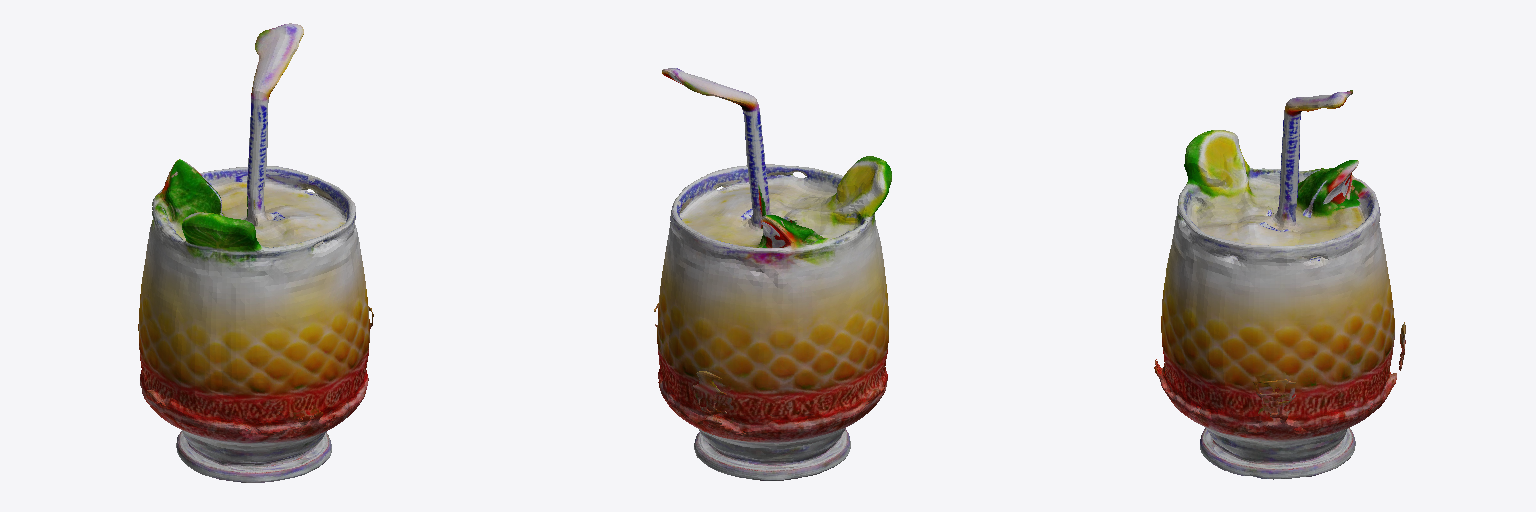
3 renders of one model, left to right at view 1: azimuth 30°, elevation 25°; view 2: azimuth 150°, elevation 25°; view 3: azimuth 270°, elevation 25°, orthographic.
Parts seen in each view (by area): view 1: mesh; view 2: mesh; view 3: mesh.
Boxes of the visible parts, x1,y1,x2,y2 form: mesh: [138, 23, 373, 482]; mesh: [654, 68, 891, 480]; mesh: [1154, 90, 1405, 479].
Size of the model in its own units: 0.5816 by 0.9975 by 0.5868.
1 materials, 1 textured.